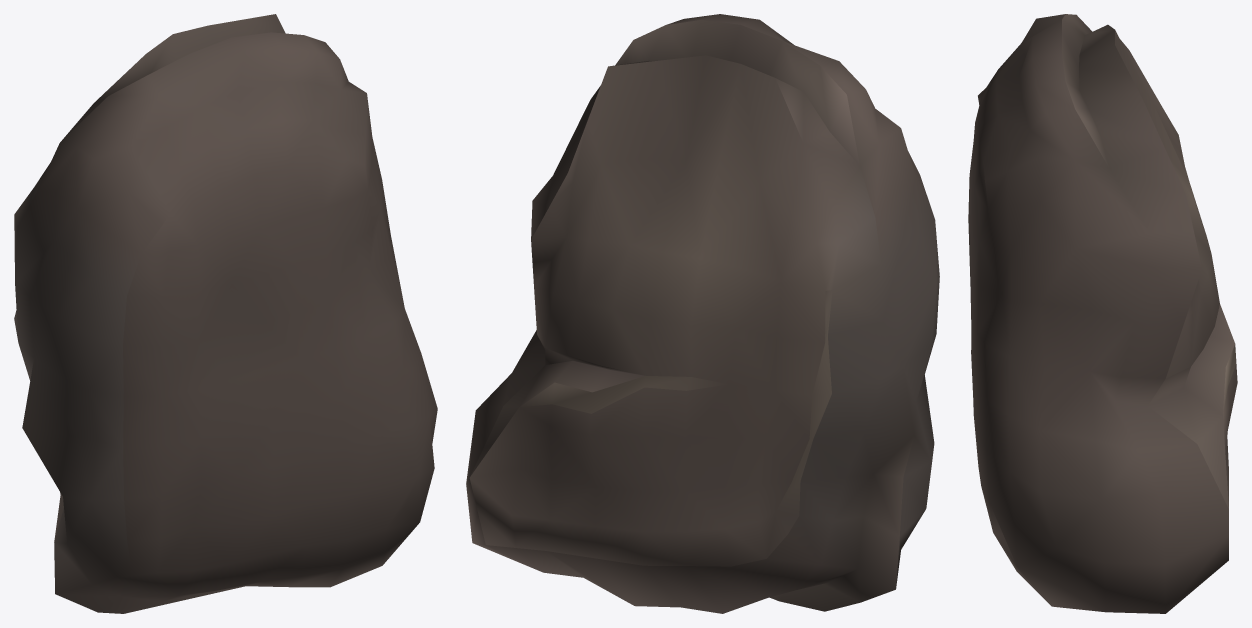
Rendered from SharpRock.009.glb.
3 views of the same model, side by side, from view 1: azimuth 30°, elevation 25°; view 2: azimuth 150°, elevation 25°; view 3: azimuth 270°, elevation 25° (orthographic). The views are drawn at different scales.
Parts seen in each view (by area): view 1: SharpRock.009; view 2: SharpRock.009; view 3: SharpRock.009.
Part boxes in pixels (left/top/right/bottom): SharpRock.009: left=14, top=14, right=437, bottom=613; SharpRock.009: left=466, top=14, right=939, bottom=613; SharpRock.009: left=968, top=14, right=1237, bottom=613.
Size of the model in its own units: 383 by 499 by 237.
